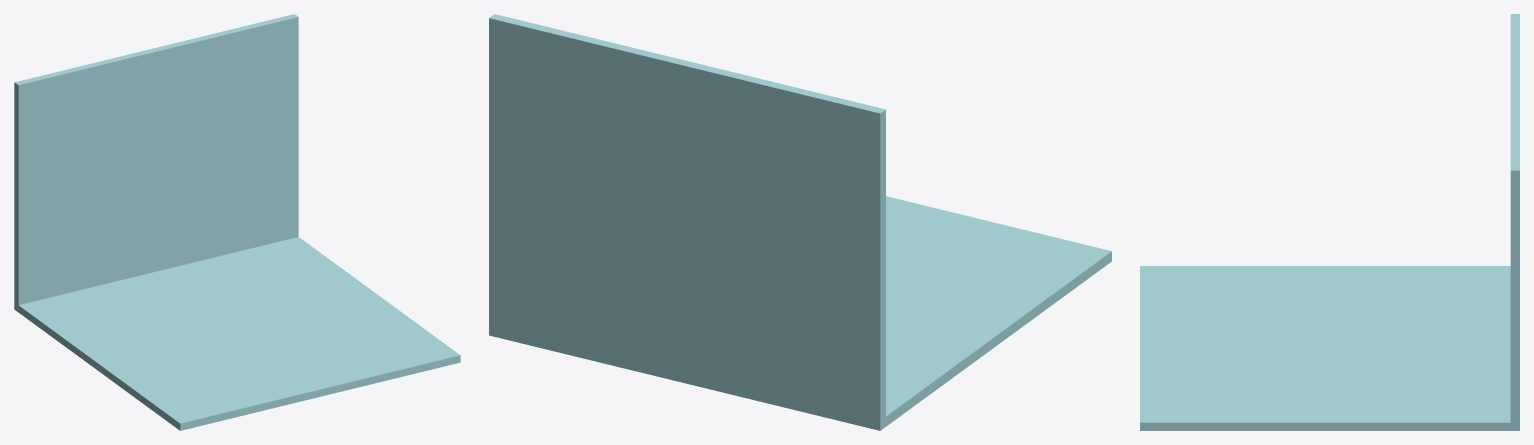
Rendered from salon.fbx.
3 views of the same model, side by side, from view 1: azimuth 30°, elevation 25°; view 2: azimuth 150°, elevation 25°; view 3: azimuth 270°, elevation 25° (orthographic). The views are drawn at different scales.
Visible parts, largest first — view 1: Wall; view 2: Wall; view 3: Wall.
Boxes of the visible parts, box(x1,y1,x2,y2) form: Wall: box(14, 14, 460, 430); Wall: box(489, 14, 1111, 430); Wall: box(1140, 14, 1519, 430).
Size of the model in its own units: 400 by 310 by 410.
